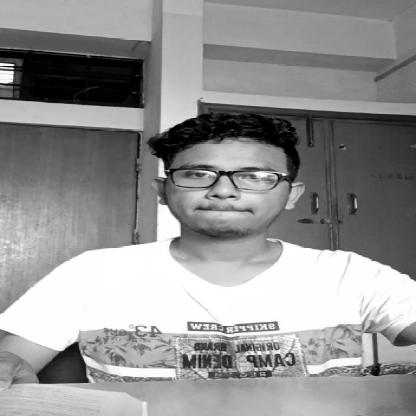Normal: (169, 141, 284, 239)
